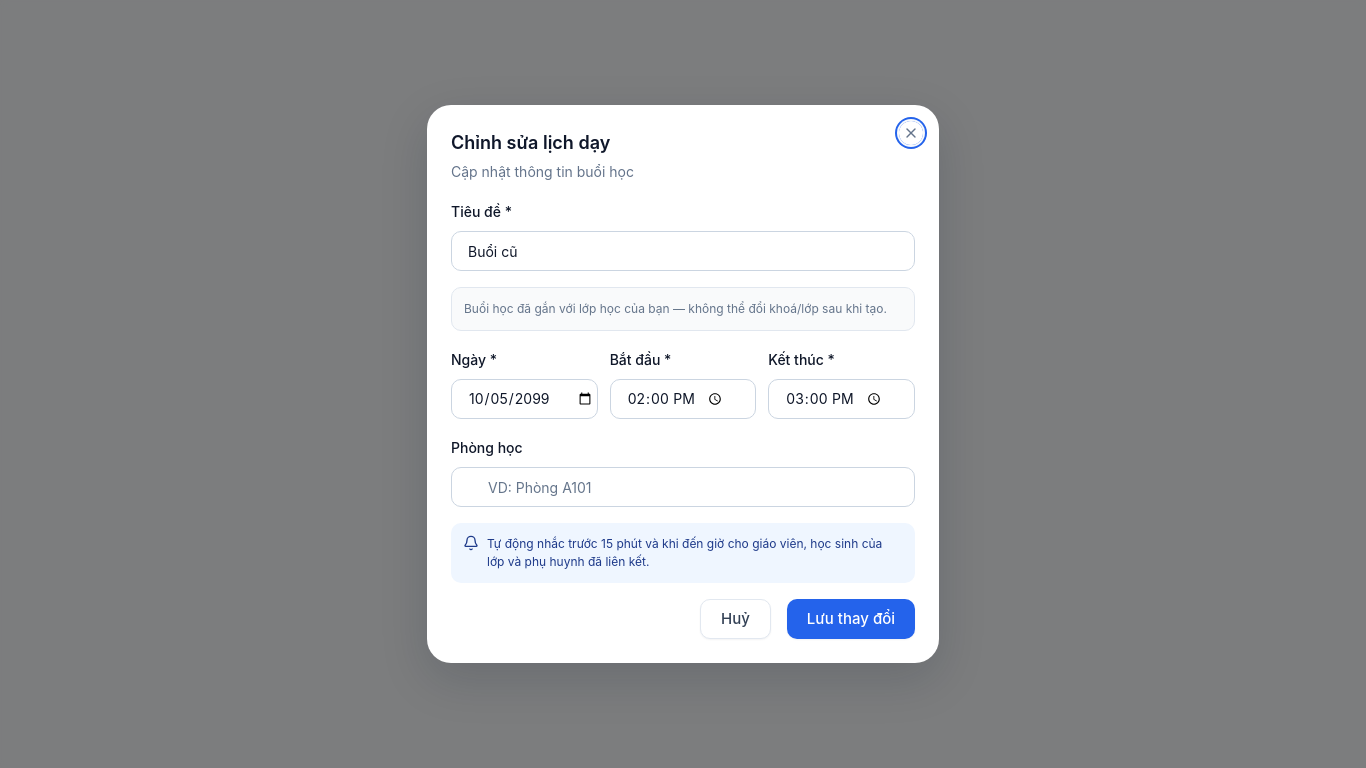
Test: ScheduleEventFormDialog — sửa buổi › đổi giờ bắt đầu sang quá khứ: hiện lỗi; không đổi giờ thì sửa tiêu đề vẫn lưu được
The width and height of the screenshot is (1366, 768).
Type "2020-01-01" into the date field labelled "Ngày *" at (524, 399), box [451,379,598,419]
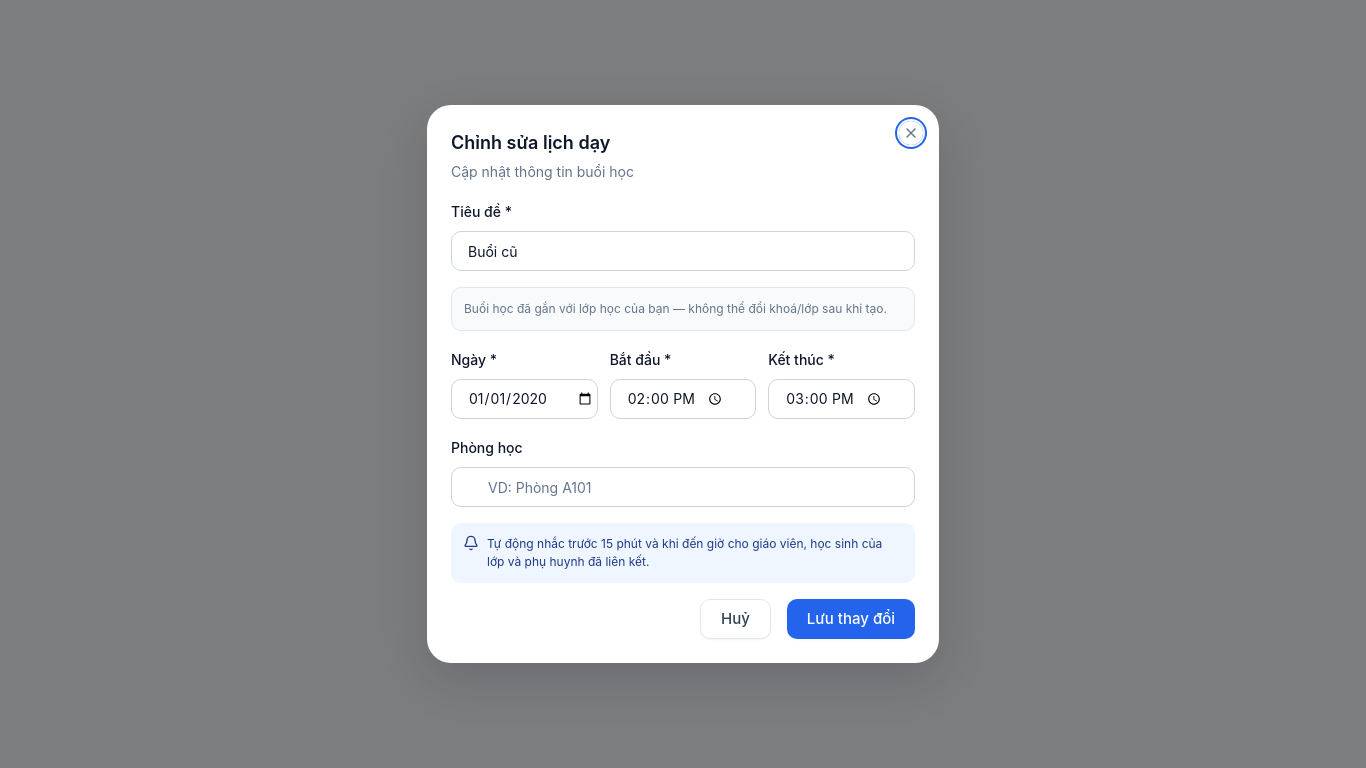
Click the button "Lưu thay đổi" at (851, 619), box [787,599,915,639]
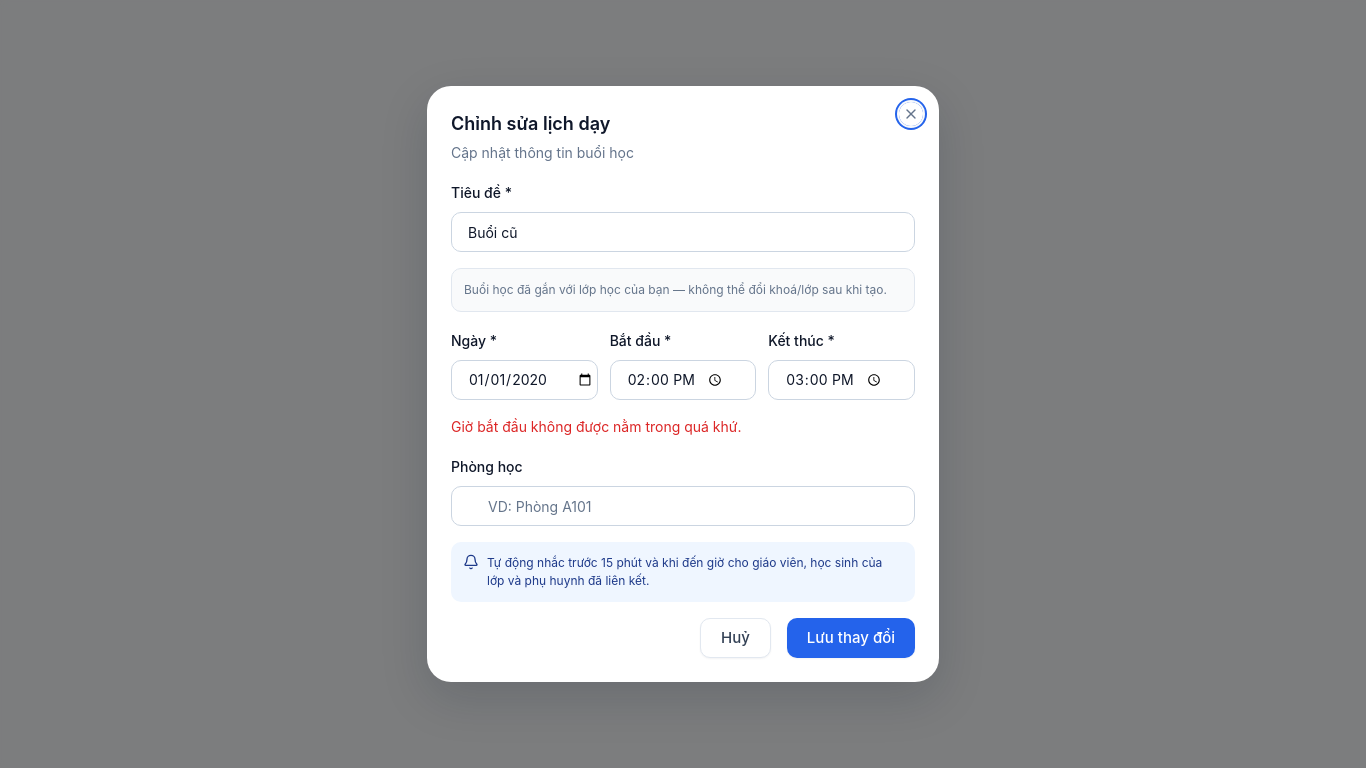
Check: the message shows "quá khứ", box [451,418,742,435]
